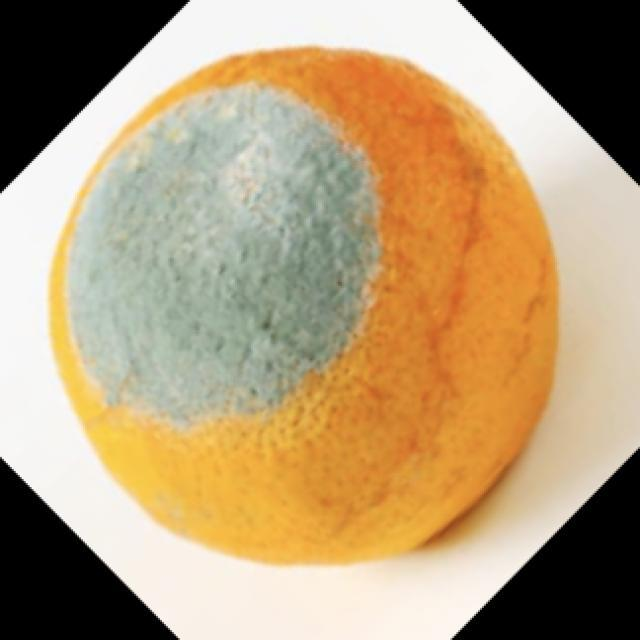sedikit-busuk: (49, 48, 557, 561), (68, 85, 380, 428)
